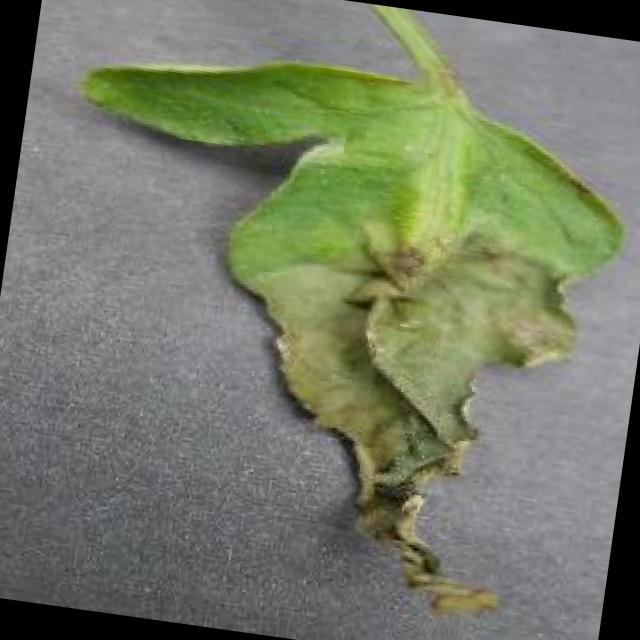Tomato_Late_Blight: (186, 208, 615, 640)
